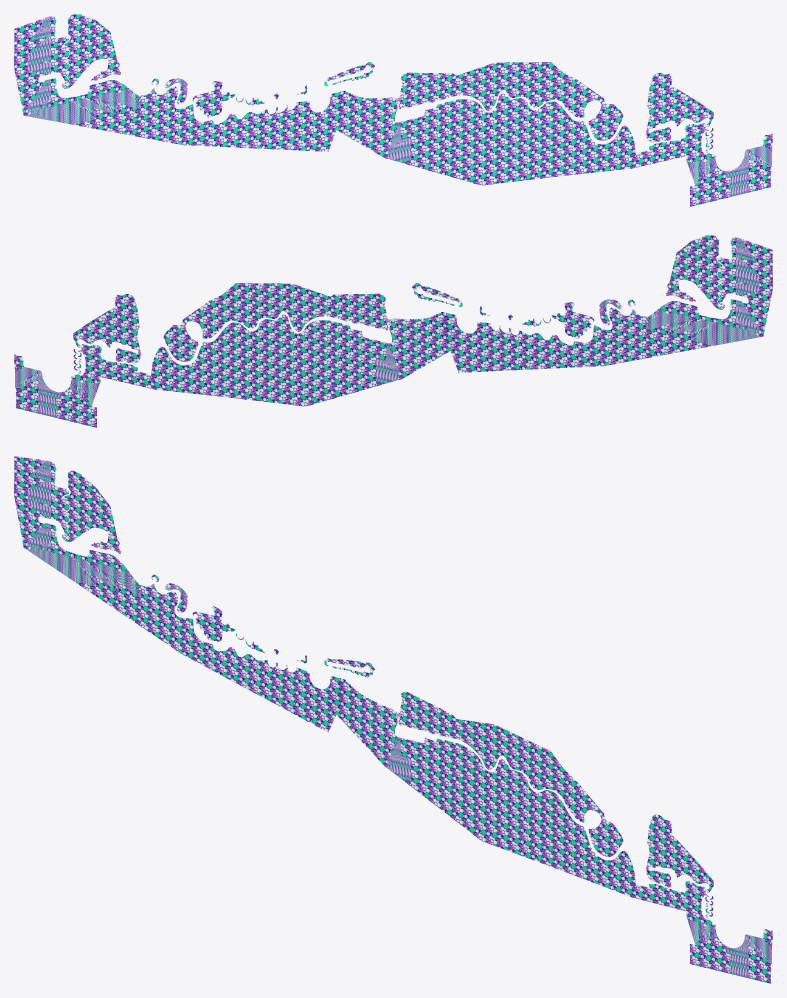
The model's file is snow03.glb.
3 views of the same model, one above another, from view 1: azimuth 30°, elevation 25°; view 2: azimuth 150°, elevation 25°; view 3: azimuth 330°, elevation 25° (orthographic).
Parts seen in each view (by area): view 1: snow03; view 2: snow03; view 3: snow03.
Boxes of the visible parts, <box> form: snow03: <box>14,14,772,206</box>; snow03: <box>14,235,772,427</box>; snow03: <box>14,456,772,983</box>.
Size of the model in its own units: 13491 by 5889 by 1.04.
Materials: 1 (1 with a texture image).
